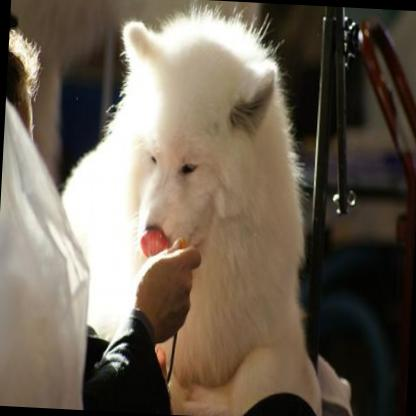Samoyed: (49, 0, 319, 401)
